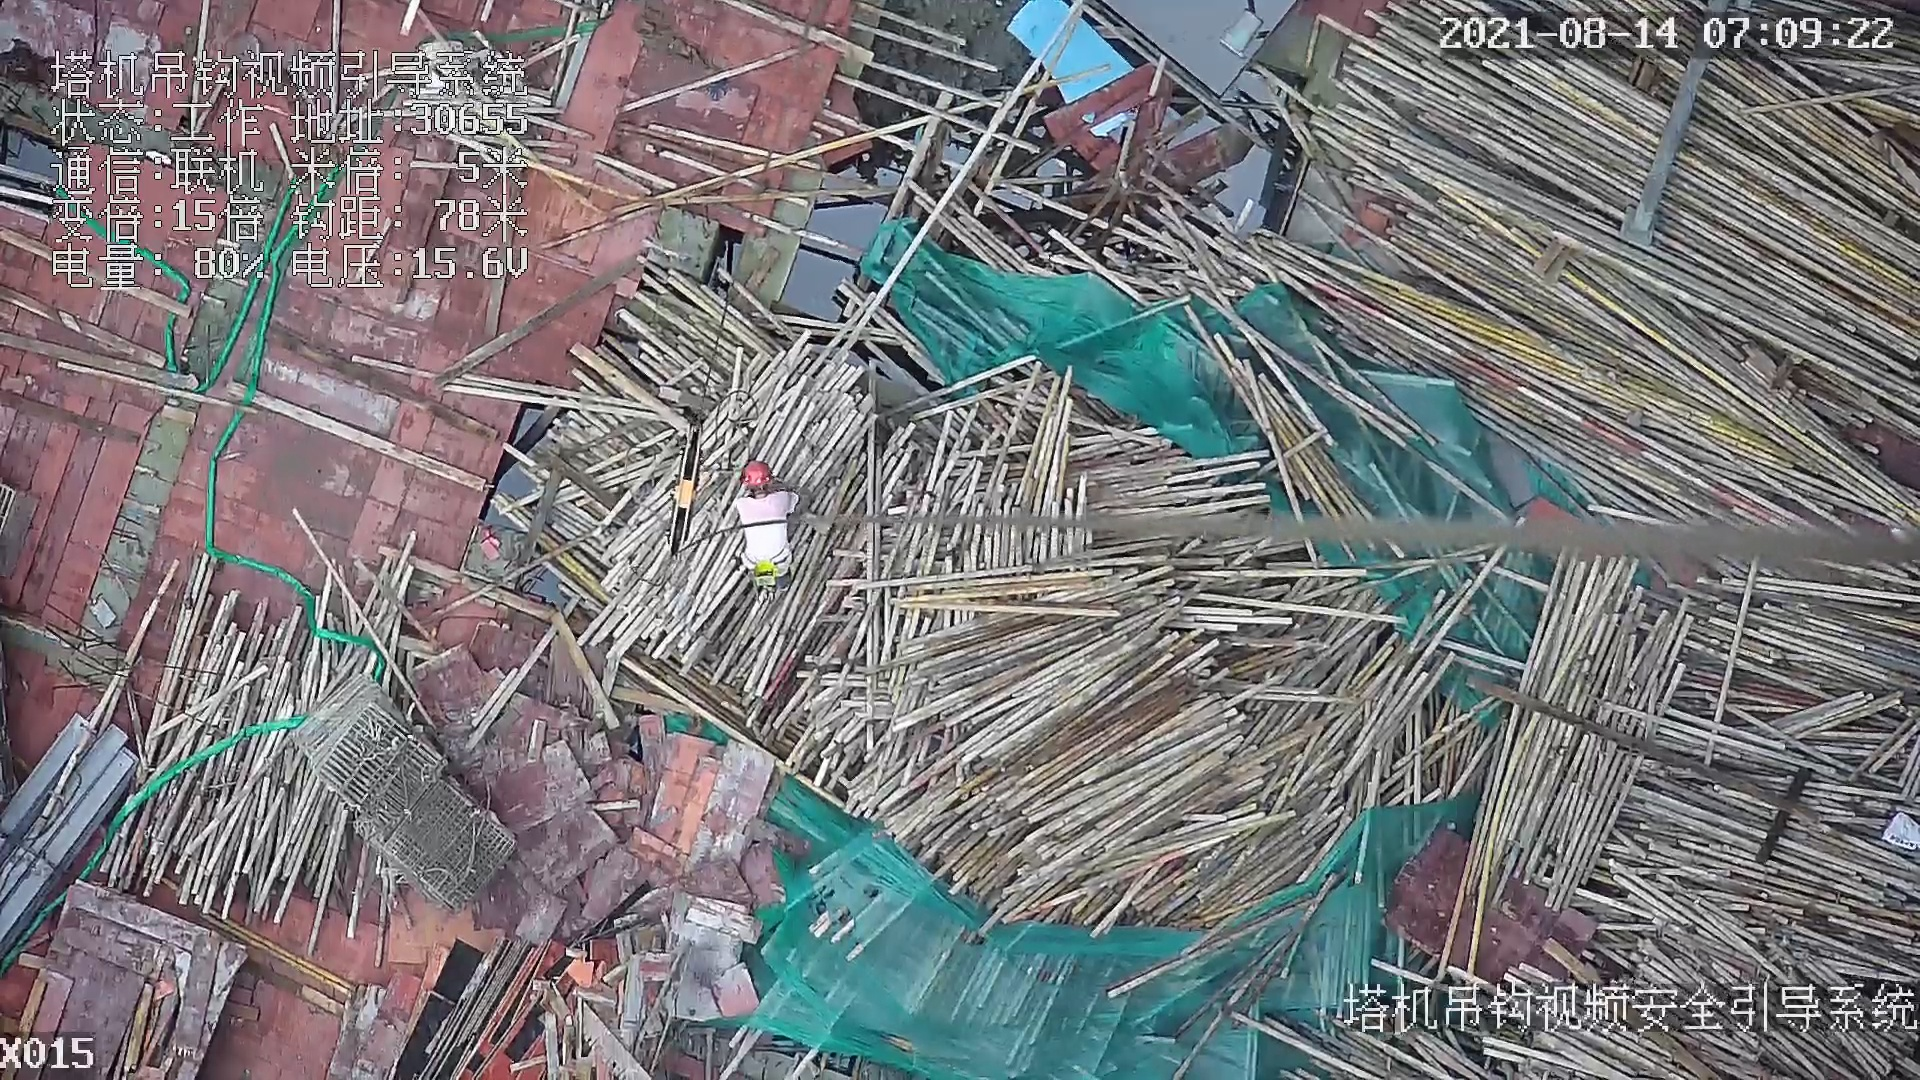helmet: (739, 459, 775, 491)
hook: (663, 421, 713, 563)
person: (727, 460, 805, 591)
